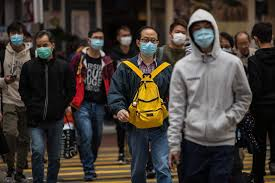no-mask: (231, 28, 253, 57)
with-mask: (184, 9, 224, 58), (135, 24, 162, 60), (4, 21, 30, 50), (31, 31, 57, 60), (166, 19, 189, 51), (82, 26, 109, 53), (249, 24, 273, 49), (113, 25, 134, 48), (216, 32, 232, 58)
